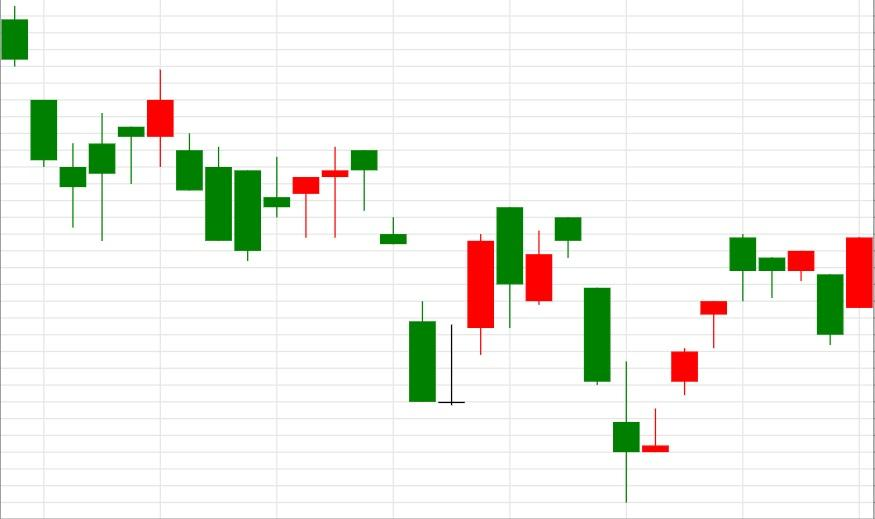three_black_crows_fall: (408, 207, 641, 503)
